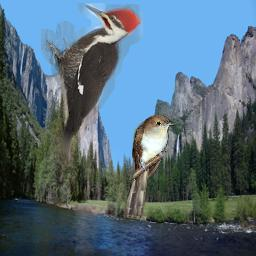Cuckoo: (125, 114, 175, 218)
Woodpecker: (41, 3, 143, 169)
